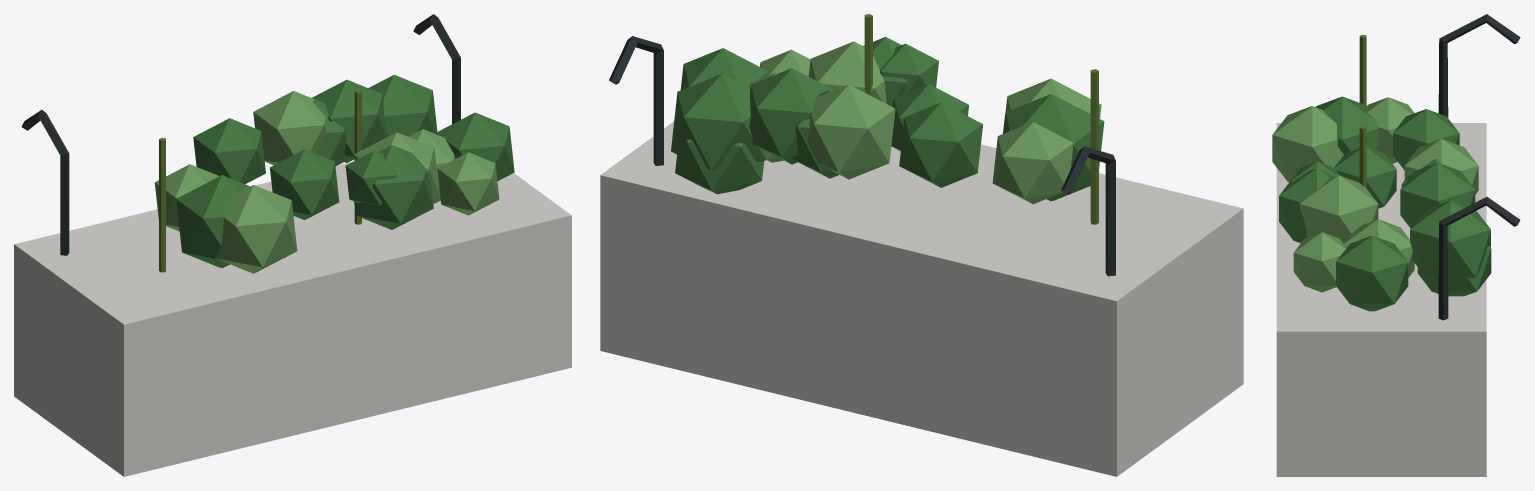
File: chau_ban_cong__rau.glb
3 views of the same model, side by side, from view 1: azimuth 30°, elevation 25°; view 2: azimuth 150°, elevation 25°; view 3: azimuth 270°, elevation 25° (orthographic). The views are drawn at different scales.
Visible parts, largest first — view 1: chau_ban_cong__rau; view 2: chau_ban_cong__rau; view 3: chau_ban_cong__rau.
Boxes of the visible parts, box(x1,y1,x2,y2) form: chau_ban_cong__rau: box(14, 14, 571, 476); chau_ban_cong__rau: box(600, 14, 1243, 476); chau_ban_cong__rau: box(1272, 14, 1520, 476).
Bounding box in the file's own units: 0.8 × 0.485 × 0.4022.
